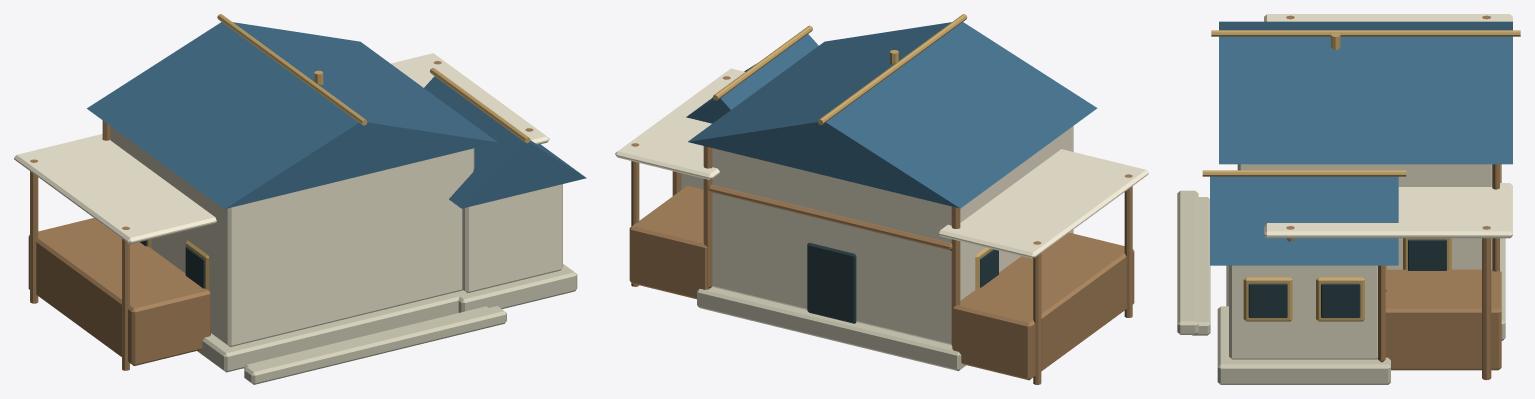
The model's file is level_16.glb.
3 renders of one model, left to right at view 1: azimuth 30°, elevation 25°; view 2: azimuth 150°, elevation 25°; view 3: azimuth 270°, elevation 25°, orthographic. The views are drawn at different scales.
Parts seen in each view (by area): view 1: market — level 16; view 2: market — level 16; view 3: market — level 16.
Boxes of the visible parts, left/top/right/bottom form: market — level 16: left=14, top=14, right=586, bottom=384; market — level 16: left=615, top=14, right=1148, bottom=384; market — level 16: left=1177, top=14, right=1520, bottom=384.
Bounding box in the file's own units: 7.08 × 3.58 × 4.55.
